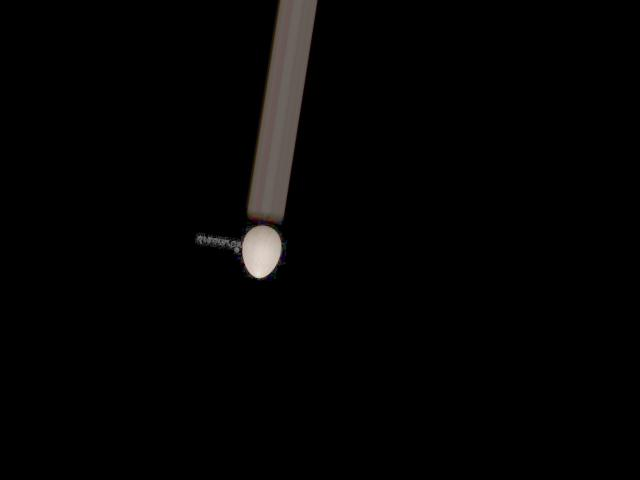egg: (239, 222, 285, 280)
